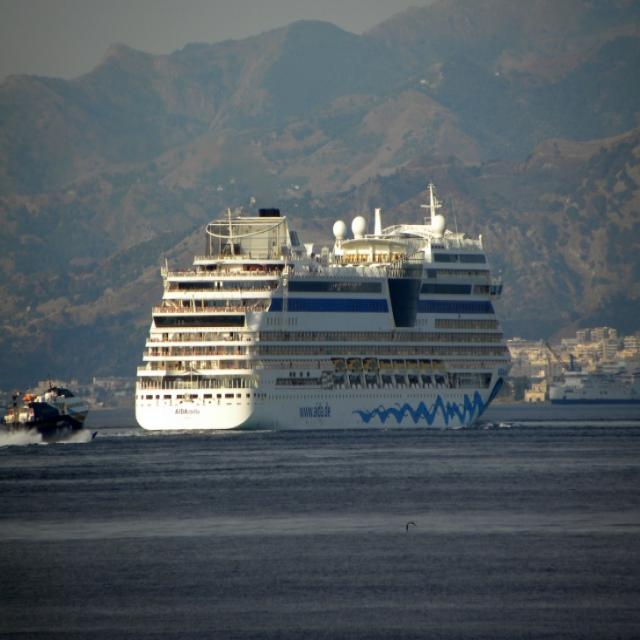cruises: (131, 184, 514, 439)
